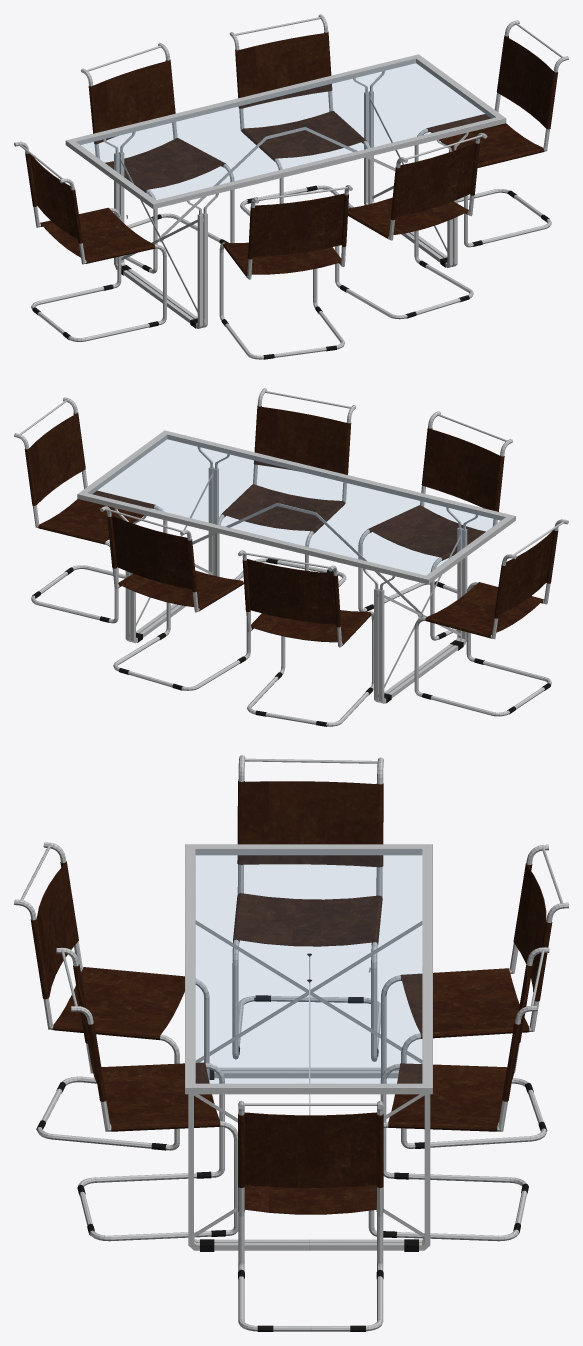
Rendered from meeting_table.glb.
3 renders of one model, top to bottom at view 1: azimuth 30°, elevation 25°; view 2: azimuth 150°, elevation 25°; view 3: azimuth 270°, elevation 25°, orthographic. The views are drawn at different scales.
Visible parts, largest first — view 1: glass_meeting_table_1_n0, glass_meeting_table_0_n0; view 2: glass_meeting_table_1_n0, glass_meeting_table_0_n0; view 3: glass_meeting_table_1_n0, glass_meeting_table_0_n0.
Part boxes in pixels (x1,y1,x2,y2): glass_meeting_table_1_n0: [14, 14, 568, 359]; glass_meeting_table_0_n0: [78, 60, 493, 199]; glass_meeting_table_1_n0: [14, 388, 568, 726]; glass_meeting_table_0_n0: [90, 436, 503, 574]; glass_meeting_table_1_n0: [14, 755, 568, 1331]; glass_meeting_table_0_n0: [196, 850, 421, 1082].
Bounding box in the file's own units: 2.5 × 0.7893 × 1.68.
2 materials, 2 textured.
